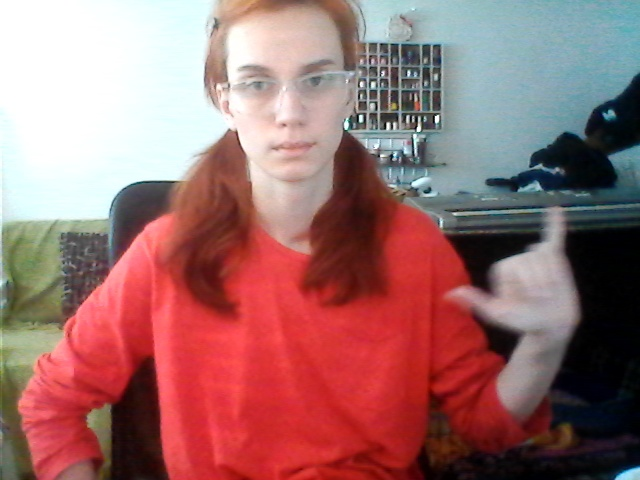kto: (435, 204, 596, 338)
